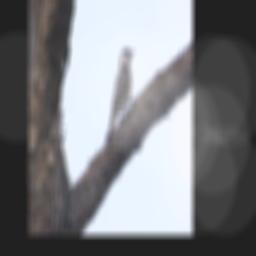Woodpecker: (103, 42, 138, 148)
